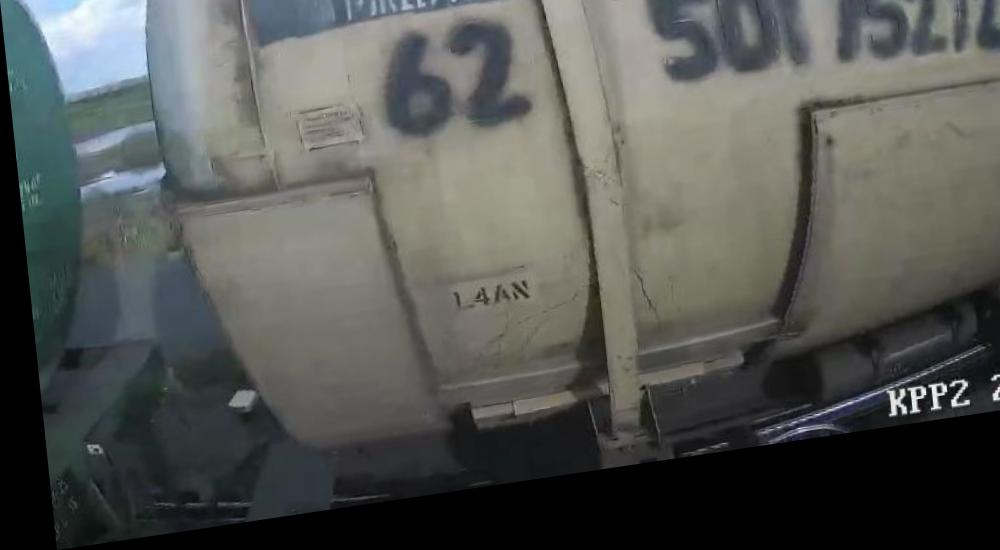Wagon-number: (632, 0, 1000, 129)
